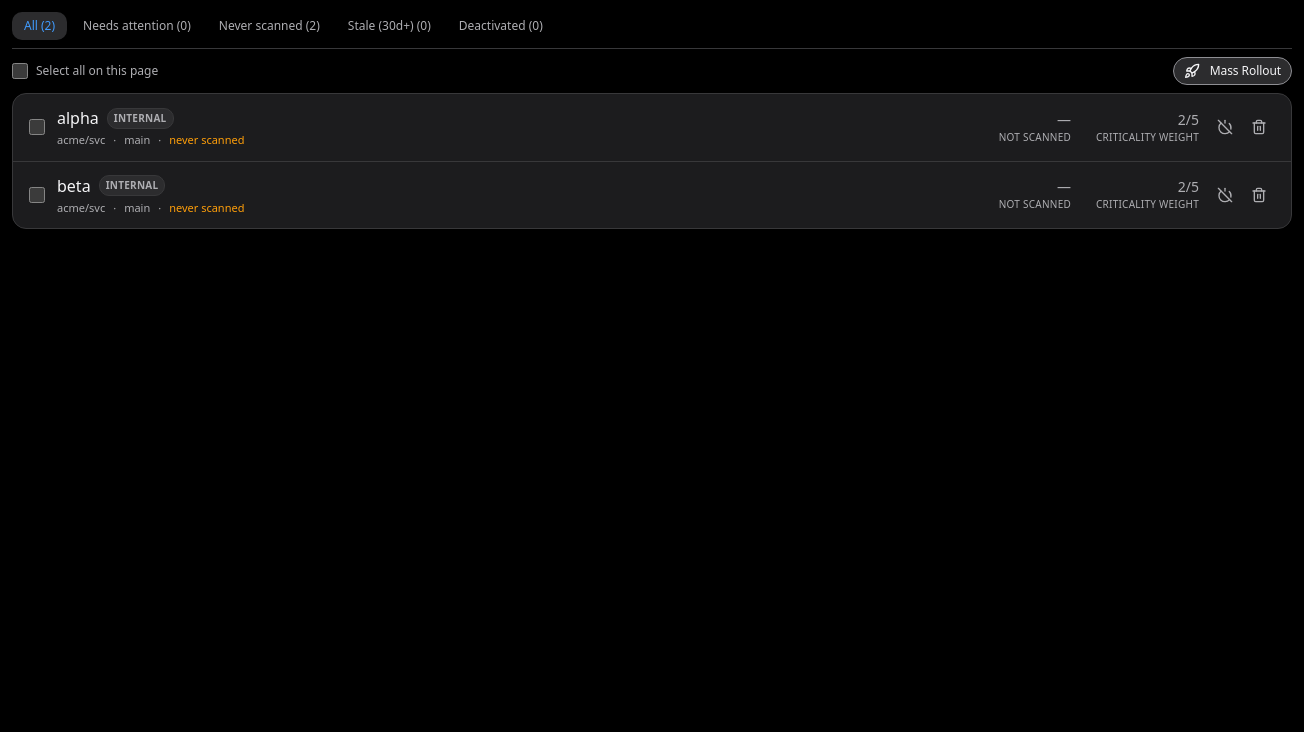
Test: TargetsList bulk selection › leaves Mass Rollout available while a selection is live
This screenshot has width=1304, height=732.
Click the checkbox named "Select alpha": (37, 127) [29,119,45,135]
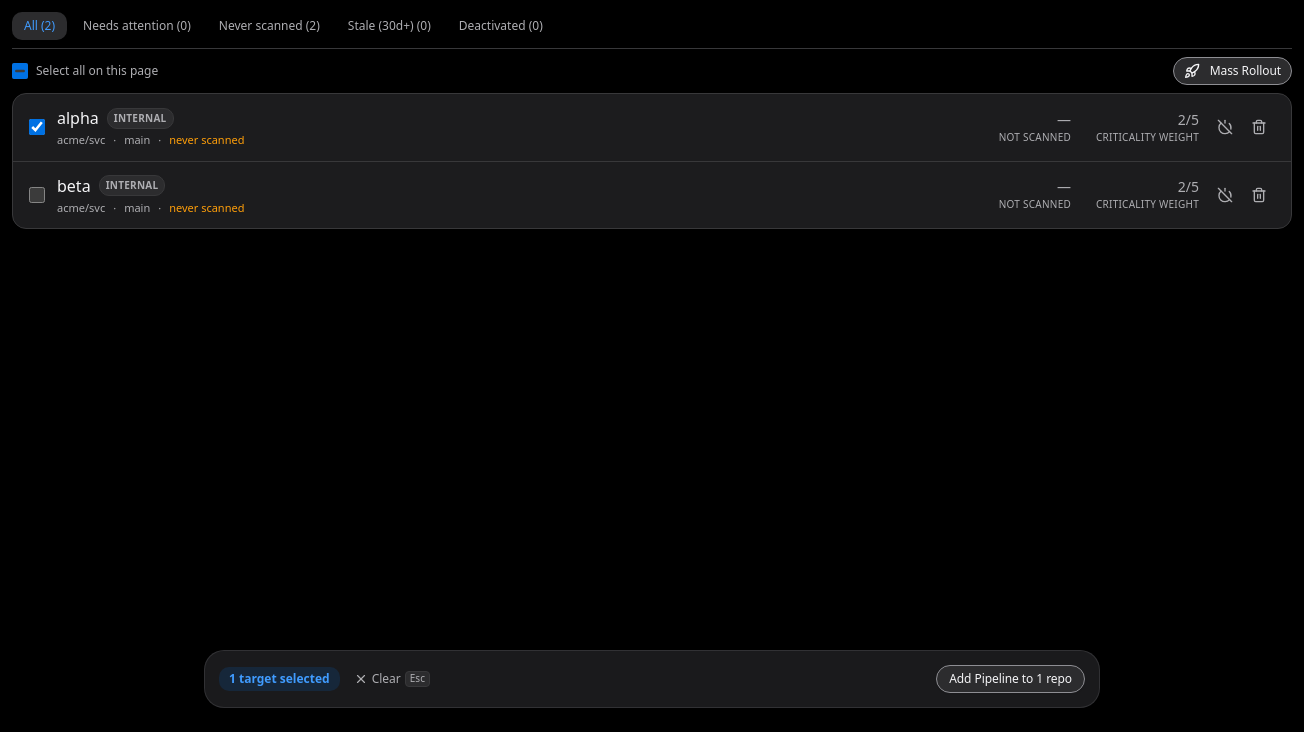
Expected: the button "Mass Rollout" is shown, [1173,57,1292,85]
Now the message "1 target selected Clear Esc Add Pipeline to 1 repo" is shown, box [204,650,1100,708]
